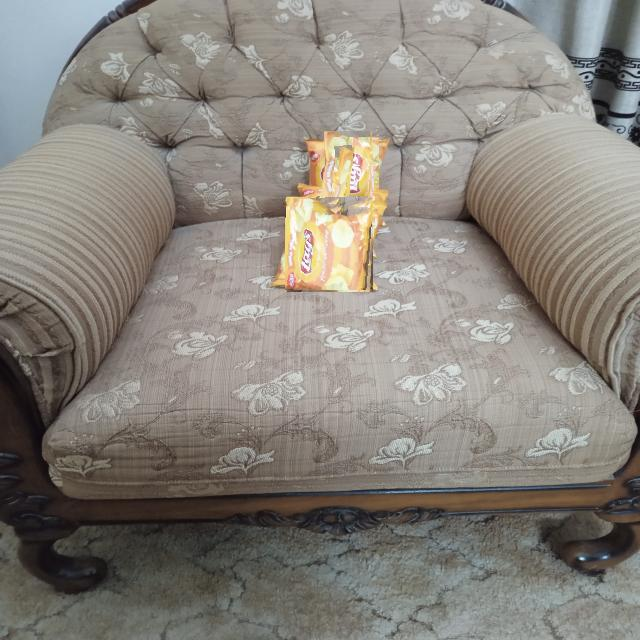Plastic: (285, 199, 376, 290), (318, 137, 379, 197), (316, 166, 371, 222)
